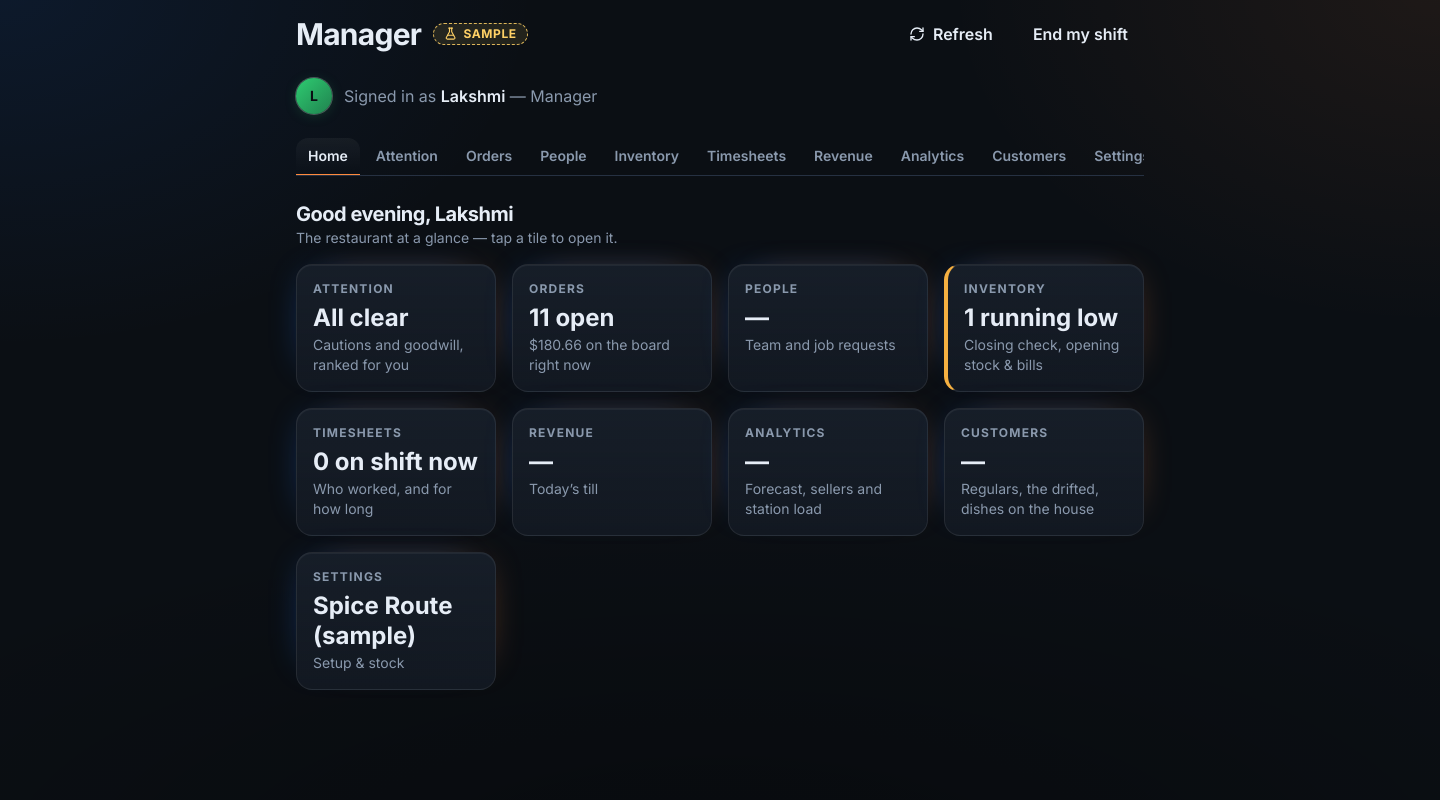
Test: readiness_gaps_first_then_the_rest_of_the_day
What coordinates should you click on to do the following:
click the tab "Attention"
I would click on:
 (407, 157)
Its box is [364,138,450,176].
(page scrolled)
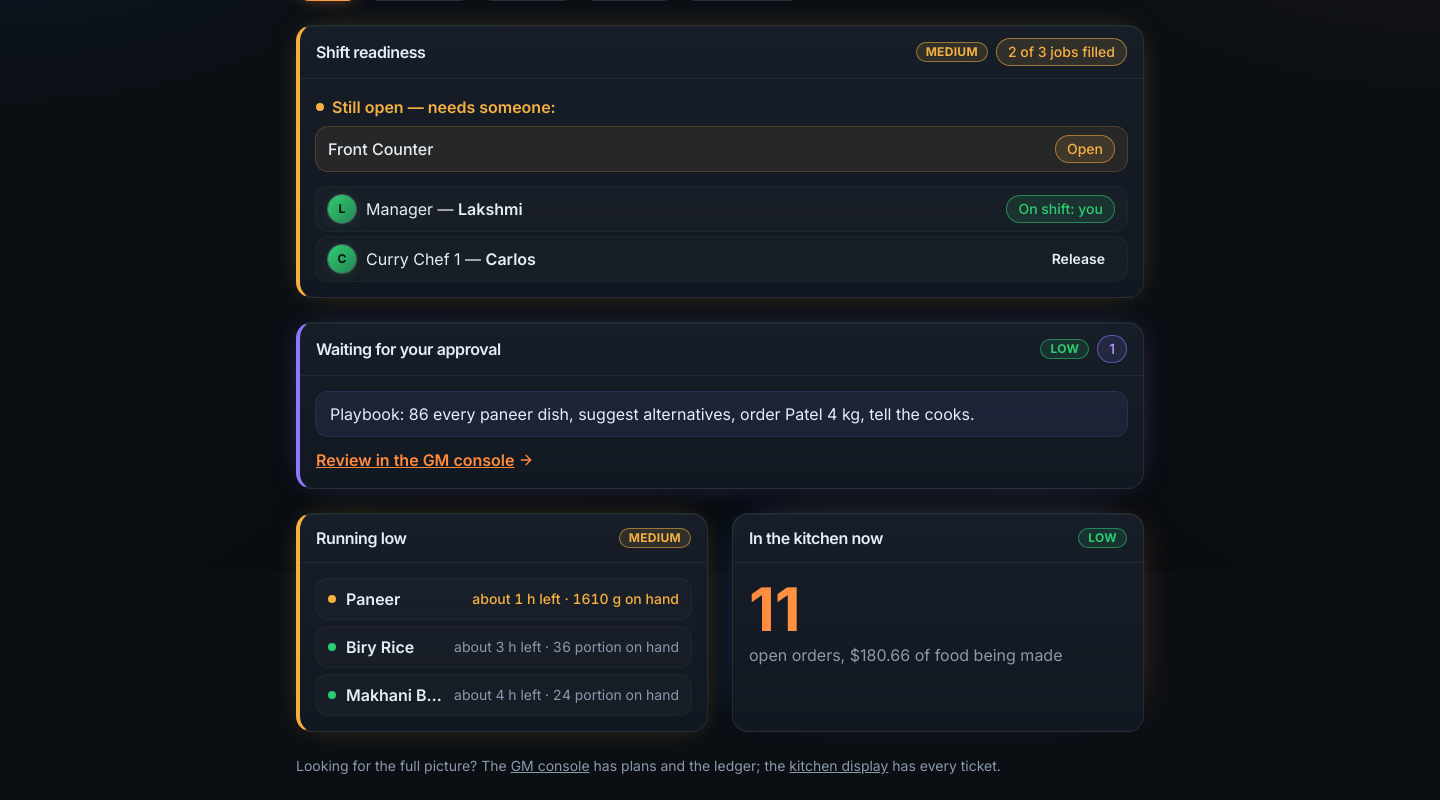
Check: the text "Still open — needs someone:" is shown, box [316,97,556,117]
Check: the text "Front Counter" is shown, box [328,137,433,161]
Check: the text "2 of 3 jobs filled" is shown, box [996,38,1127,66]
